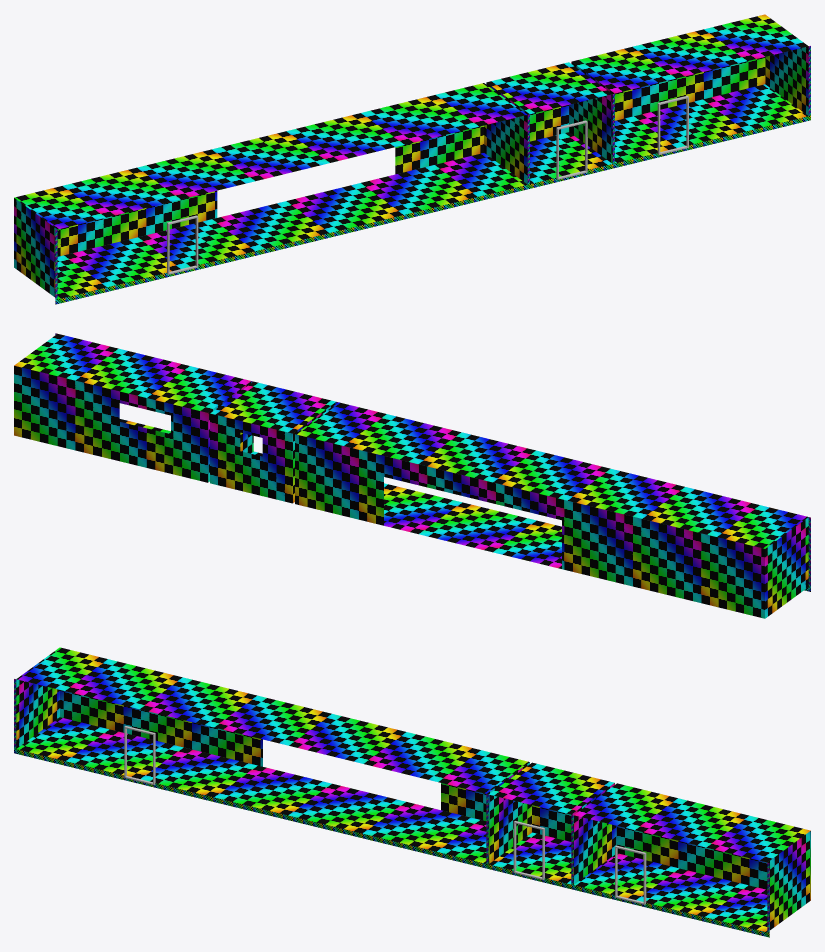
File: BackLower.FBX
The picture shows the model from 3 angles, top to bottom: view 1: azimuth 30°, elevation 25°; view 2: azimuth 150°, elevation 25°; view 3: azimuth 330°, elevation 25°; orthographic projection.
Parts seen in each view (by area): view 1: BackLowerLivingCeiling, BackLowerLivingFloor, BackLowerLivingWall, BackLowerWashingCeiling, BackLowerWashingFloor, BackLowerWashingWall, BackLowerBathWall, BackLowerWCCeiling, BackLowerWCWall, BackLowerWCFloor, BackLowerDoorFrameLiving, BackLowerDoorFrameWashing; view 2: BackLowerLivingWall, BackLowerLivingCeiling, BackLowerWashingWall, BackLowerWashingCeiling, BackLowerLivingFloor, BackLowerWCWall, BackLowerWCCeiling; view 3: BackLowerLivingCeiling, BackLowerLivingFloor, BackLowerWashingWall, BackLowerLivingWall, BackLowerWashingCeiling, BackLowerWashingFloor, BackLowerBathWall, BackLowerWCCeiling, BackLowerWCWall, BackLowerWCFloor, BackLowerDoorFrameWC, BackLowerDoorFrameWashing.
Part boxes in pixels (x1,y1,x2,y2): BackLowerLivingCeiling: (14,83,527,229); BackLowerLivingFloor: (57,153,527,299); BackLowerLivingWall: (14,115,527,297); BackLowerWashingCeiling: (572,14,808,93); BackLowerWashingFloor: (615,84,808,163); BackLowerWashingWall: (571,46,808,120); BackLowerBathWall: (55,46,810,304); BackLowerWCCeiling: (487,62,612,114); BackLowerWCWall: (486,82,612,163); BackLowerWCFloor: (530,132,611,183); BackLowerDoorFrameLiving: (167,215,198,274); BackLowerDoorFrameWashing: (657,95,688,154); BackLowerLivingWall: (295,434,808,618); BackLowerLivingCeiling: (295,402,808,548); BackLowerWashingWall: (14,365,251,482); BackLowerWashingCeiling: (14,333,250,412); BackLowerLivingFloor: (384,483,561,568); BackLowerWCWall: (210,402,336,503); BackLowerWCCeiling: (210,381,335,433); BackLowerLivingCeiling: (16,647,529,793); BackLowerLivingFloor: (16,717,486,863); BackLowerWashingWall: (573,815,810,930); BackLowerLivingWall: (16,679,529,820); BackLowerWashingCeiling: (574,783,810,862); BackLowerWashingFloor: (574,853,767,932); BackLowerBathWall: (14,679,769,937); BackLowerWCCeiling: (489,762,614,814); BackLowerWCWall: (488,783,614,863); BackLowerWCFloor: (489,832,571,884); BackLowerDoorFrameWC: (513,821,544,880); BackLowerDoorFrameWashing: (615,845,646,904).
Bounding box in the file's own units: 1336 × 126 × 138.
